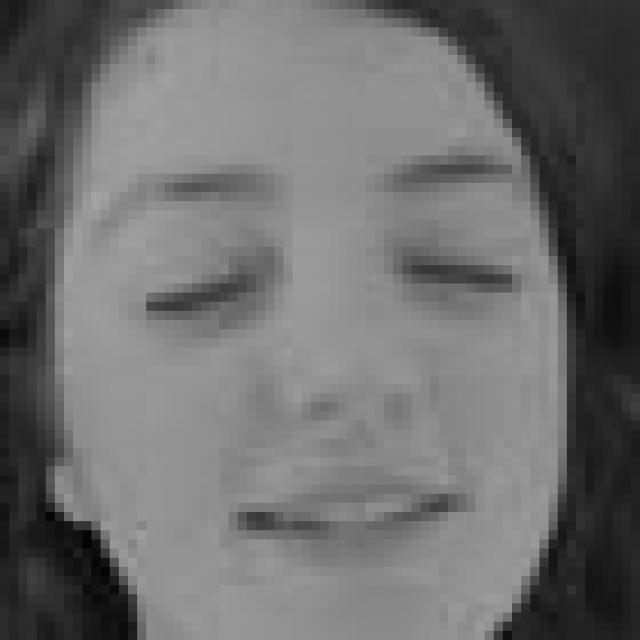real: (58, 0, 568, 640), (126, 224, 524, 348)
